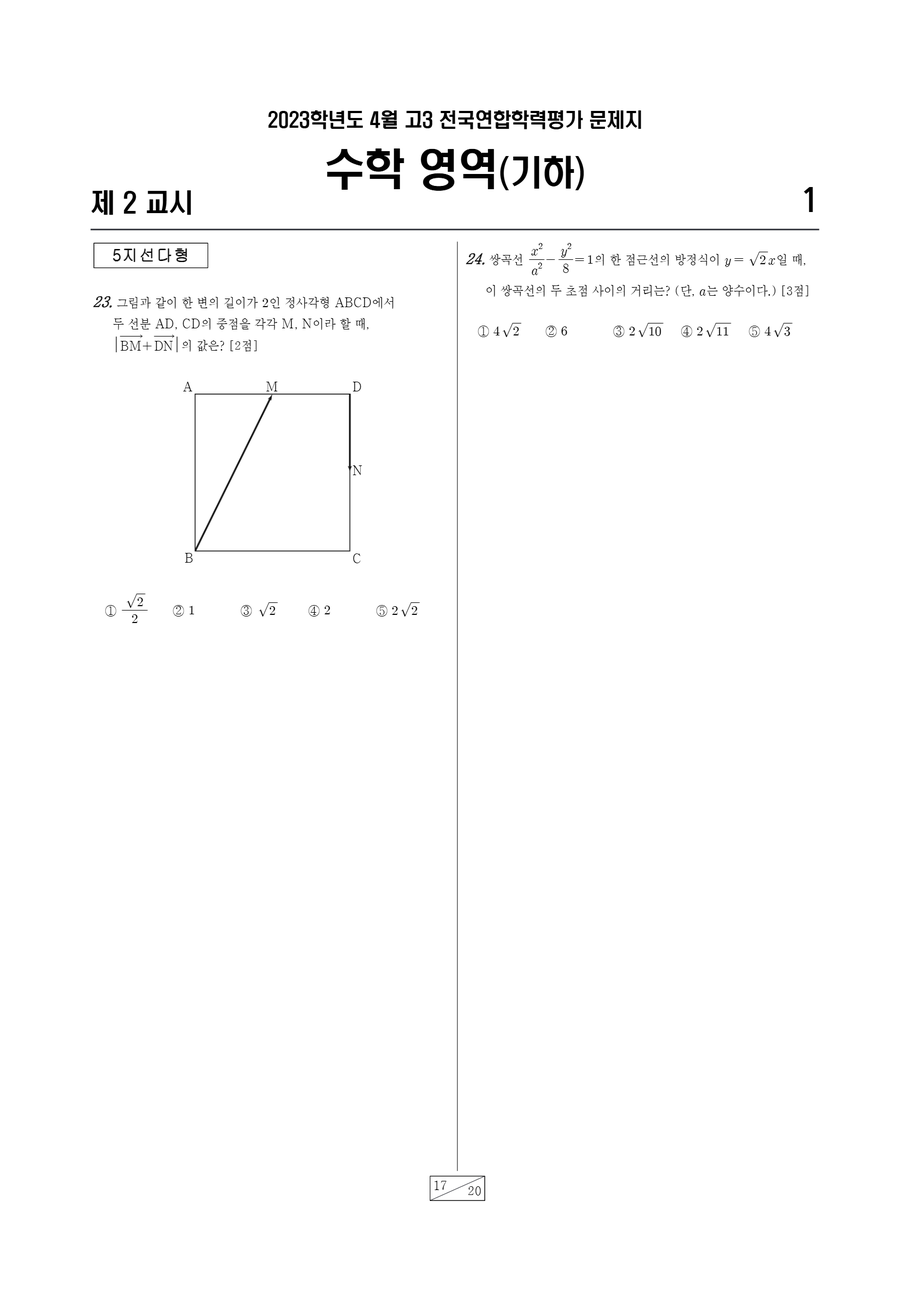opt_1: (105, 603, 117, 617), (477, 325, 489, 338)
opt_2: (170, 601, 187, 618), (545, 325, 557, 338)
opt_3: (240, 603, 252, 618), (613, 324, 624, 338)
opt_4: (680, 323, 693, 338), (308, 603, 319, 618)
opt_5: (748, 324, 760, 338), (375, 604, 387, 617)
